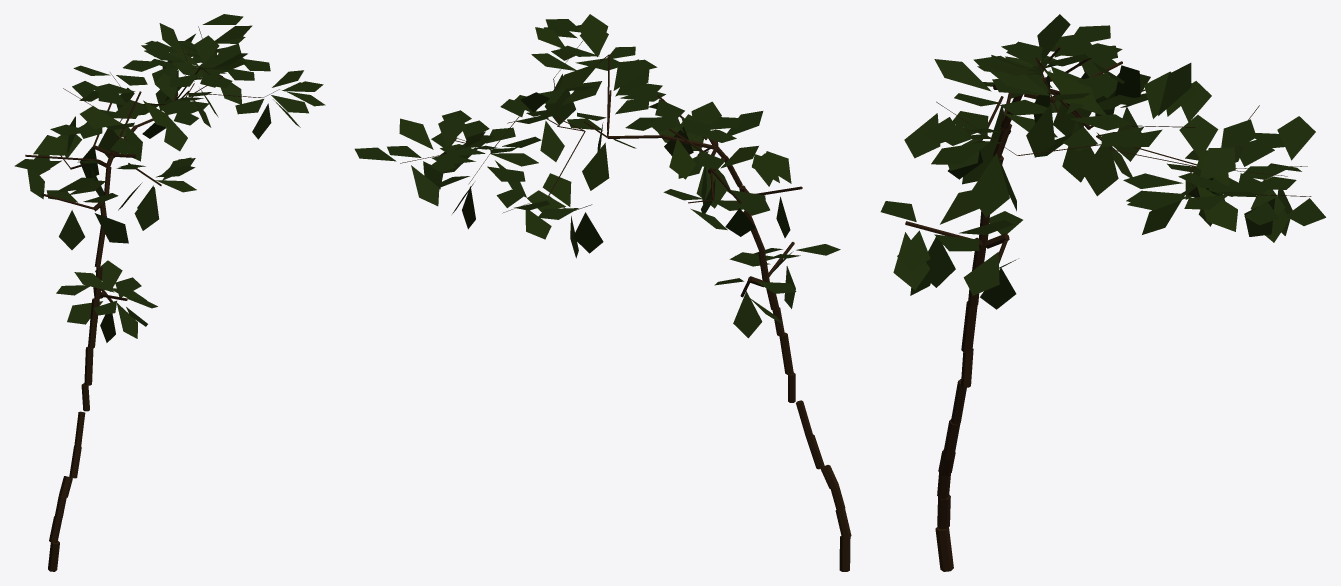
The model's file is 2022_tree_86.obj.
The picture shows the model from 3 angles, left to right: view 1: azimuth 30°, elevation 25°; view 2: azimuth 150°, elevation 25°; view 3: azimuth 270°, elevation 25°; orthographic projection. The views are drawn at different scales.
Parts seen in each view (by area): view 1: Leaves, TrunkAndBranches; view 2: Leaves, TrunkAndBranches; view 3: Leaves, TrunkAndBranches.
Boxes of the visible parts, x1,y1,x2,y2 form: Leaves: (14, 14, 325, 342); TrunkAndBranches: (25, 26, 279, 571); Leaves: (354, 14, 840, 338); TrunkAndBranches: (400, 41, 851, 571); Leaves: (880, 14, 1325, 309); TrunkAndBranches: (905, 46, 1311, 571).
Size of the model in its own units: 2.4 by 3.29 by 2.
